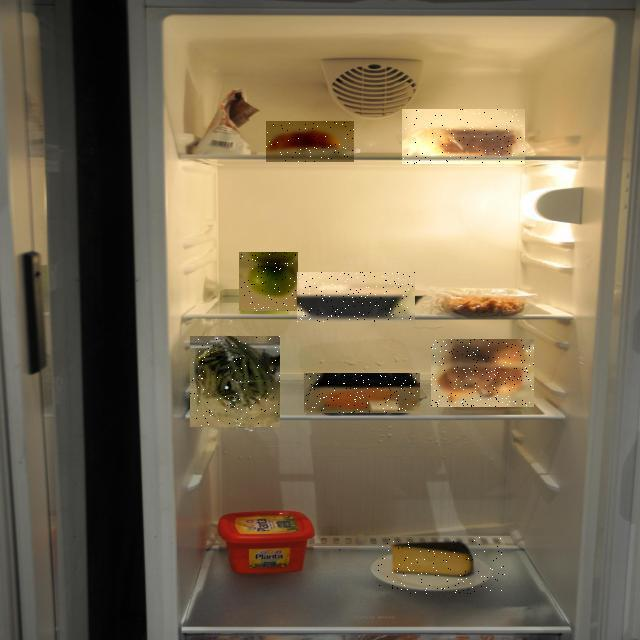Apple: (239, 252, 298, 311)
Beans: (190, 336, 280, 427)
Bread: (402, 109, 525, 164)
Cheese: (378, 537, 505, 594)
Eggs: (266, 121, 354, 162)
Meat: (297, 272, 415, 322), (304, 373, 420, 413)
Onion: (431, 339, 534, 407)
